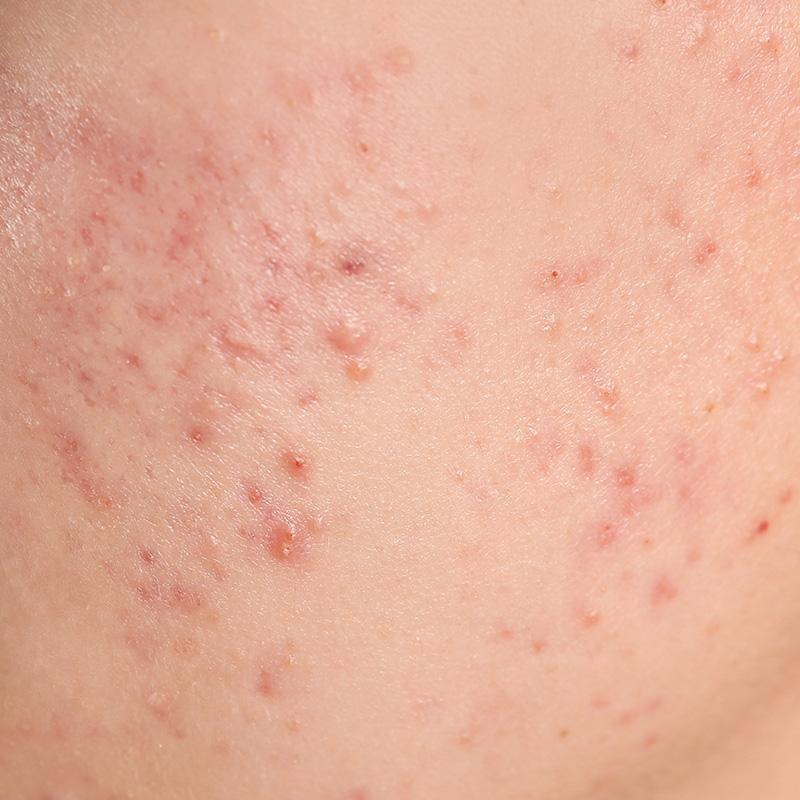acne_scars: (200, 324, 281, 382)
blackhead: (734, 315, 792, 426), (749, 20, 794, 62)
purulent: (318, 350, 385, 400)
sebo-crystan-conglo: (258, 513, 312, 589)
whitehead: (41, 239, 127, 305), (387, 170, 456, 234), (420, 259, 450, 344), (443, 446, 481, 502), (223, 206, 256, 248)
